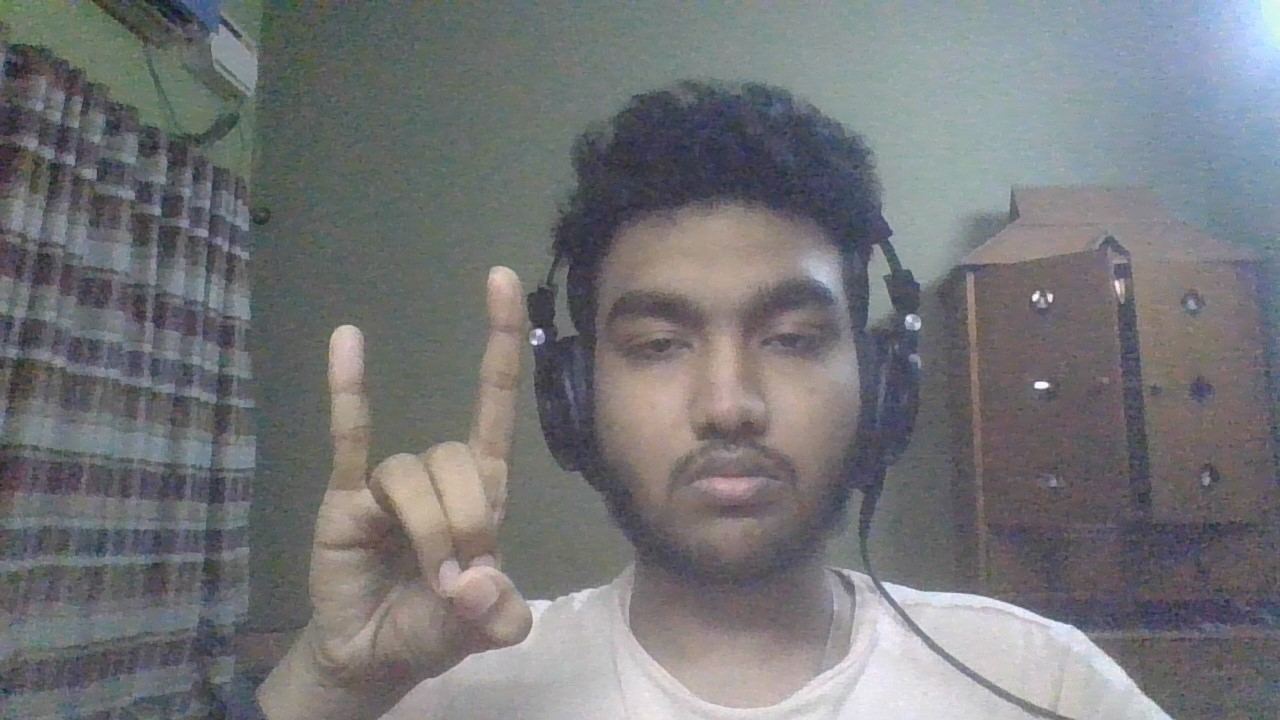Love: (304, 265, 556, 683)
